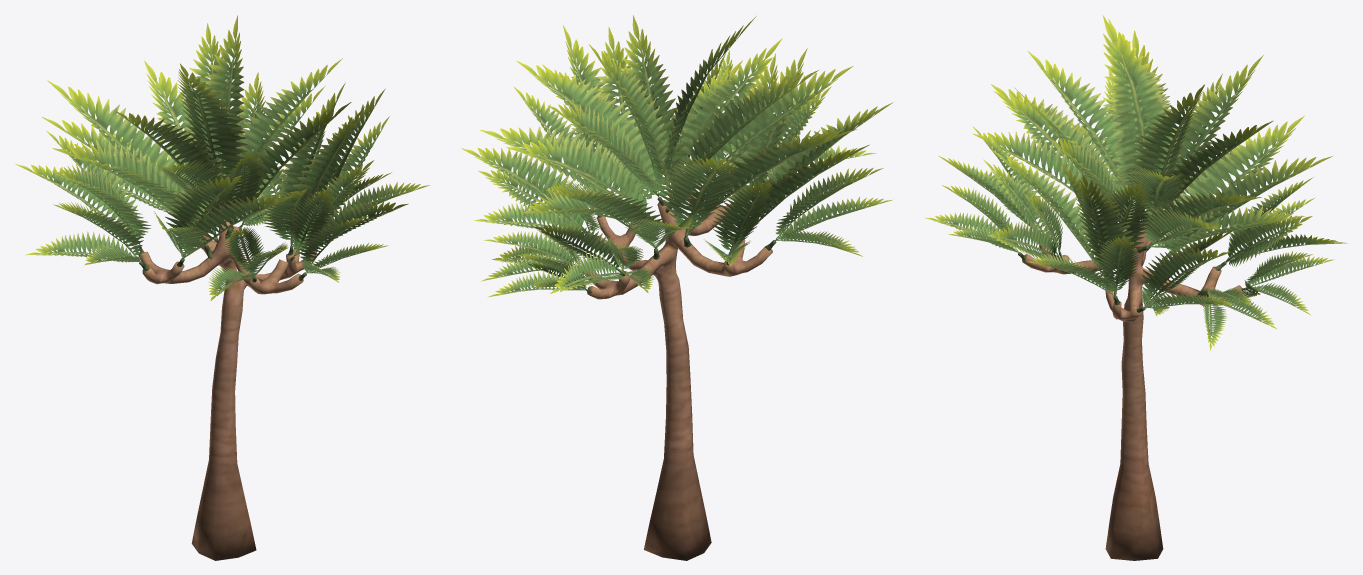
File: Tree01.fbx
3 views of the same model, side by side, from view 1: azimuth 30°, elevation 25°; view 2: azimuth 150°, elevation 25°; view 3: azimuth 270°, elevation 25° (orthographic). The views are drawn at different scales.
Visible parts, largest first — view 1: Tree; view 2: Tree; view 3: Tree.
Boxes of the visible parts, x1=… form: Tree: x1=15, y1=15, x2=430, y2=560; Tree: x1=461, y1=15, x2=893, y2=560; Tree: x1=925, y1=15, x2=1347, y2=560.
Size of the model in its own units: 14.42 by 19.09 by 14.51.
Materials: 2 (2 with a texture image).
